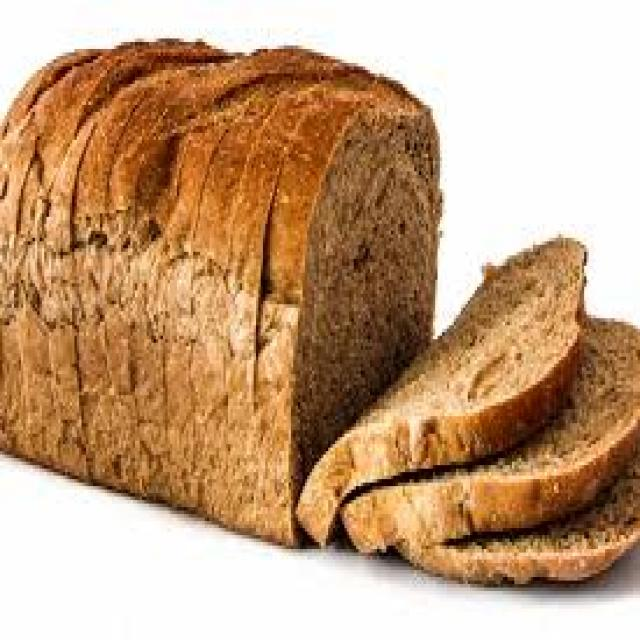organic waste: (0, 35, 440, 542), (291, 234, 586, 549), (251, 77, 440, 542), (338, 314, 638, 552), (398, 451, 638, 584)
